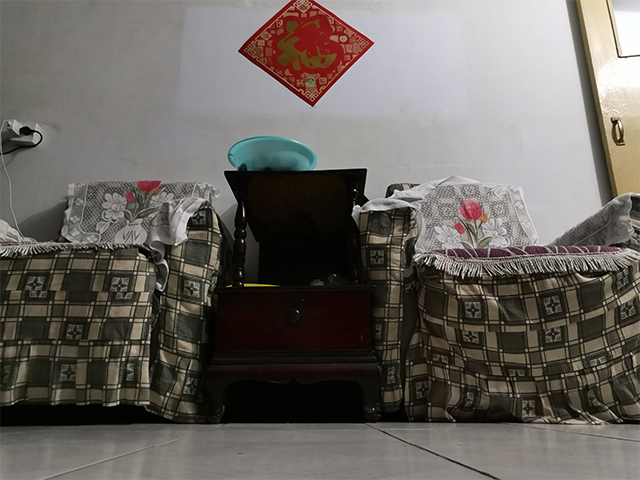cabinet: (200, 166, 386, 426)
sofa: (355, 173, 640, 427), (1, 178, 235, 428)
